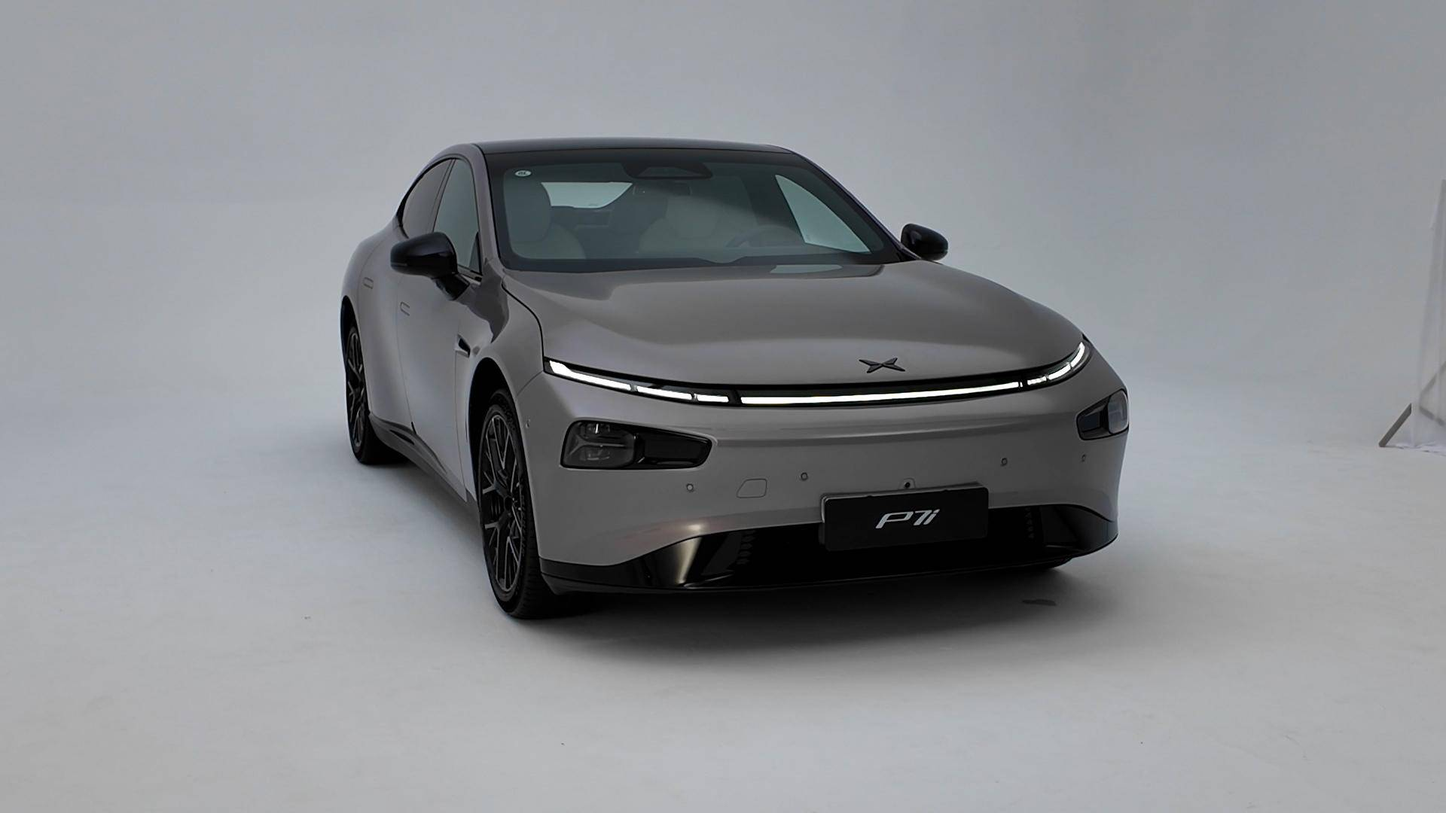other: (355, 131, 1170, 641)
